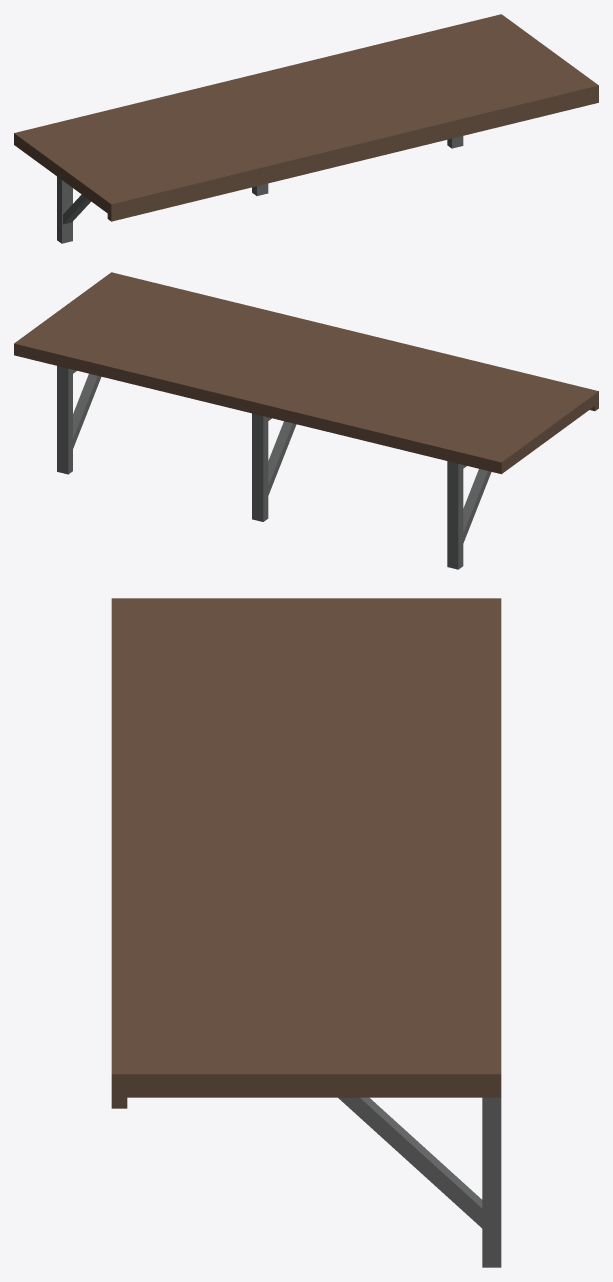
Rendered from storage-shelf-high.glb.
3 views of the same model, one above another, from view 1: azimuth 30°, elevation 25°; view 2: azimuth 150°, elevation 25°; view 3: azimuth 270°, elevation 25° (orthographic). The views are drawn at different scales.
Parts seen in each view (by area): view 1: wood, metal; view 2: wood, metal; view 3: wood, metal.
Boxes of the visible parts, left/top/right/bottom form: wood: left=14, top=14, right=598, bottom=221; metal: left=57, top=136, right=463, bottom=243; wood: left=14, top=272, right=598, bottom=474; metal: left=57, top=366, right=491, bottom=569; wood: left=111, top=598, right=501, bottom=1108; metal: left=338, top=1097, right=501, bottom=1267.
Bounding box in the file's own units: 1.3 × 0.3 × 0.45.
